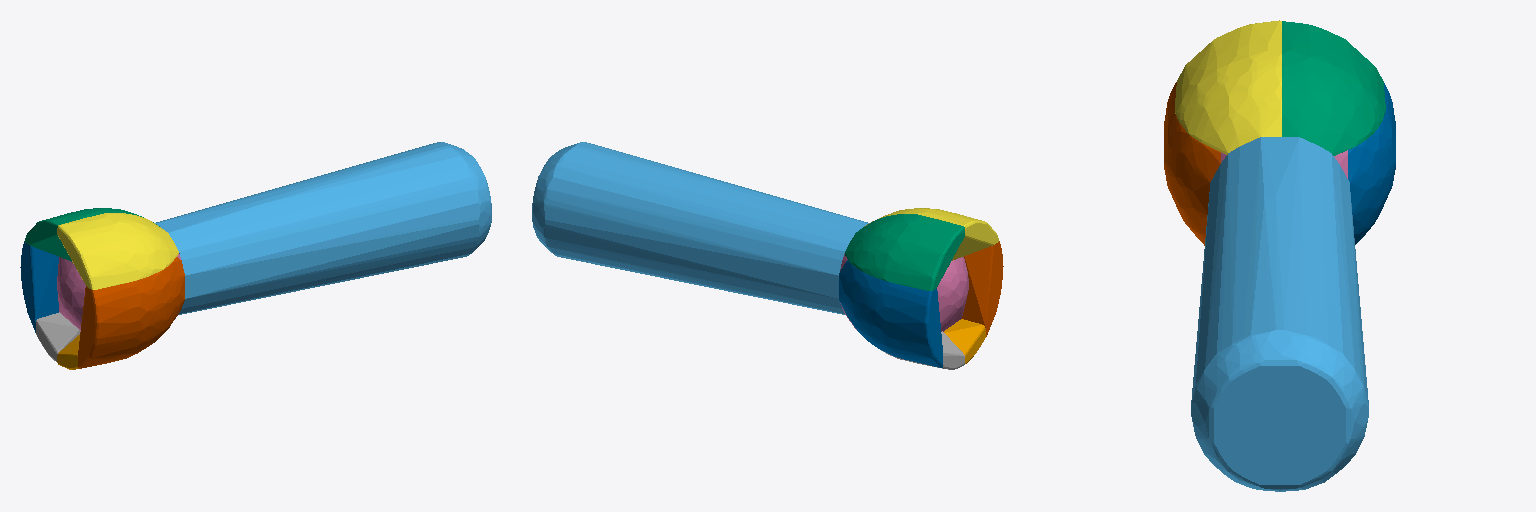
URDF robot description (sem-Flashlight-5c7bf45b0f847489181be2d6e974dccd):
<?xml version="1.0"?>
<robot name="sem-Flashlight-5c7bf45b0f847489181be2d6e974dccd">
  <link name="object_root"/>
  <link name="convex_piece_000">
    <visual><geometry><mesh filename="pieces/piece_000.obj"/></geometry></visual>
    <collision><geometry><mesh filename="pieces/piece_000.obj"/></geometry></collision>
  </link>
  <joint name="piece_joint_000" type="fixed">
    <parent link="object_root"/>
    <child link="convex_piece_000"/>
    <origin xyz="0 0 0" rpy="0 0 0"/>
  </joint>
  <link name="convex_piece_001">
    <visual><geometry><mesh filename="pieces/piece_001.obj"/></geometry></visual>
    <collision><geometry><mesh filename="pieces/piece_001.obj"/></geometry></collision>
  </link>
  <joint name="piece_joint_001" type="fixed">
    <parent link="object_root"/>
    <child link="convex_piece_001"/>
    <origin xyz="0 0 0" rpy="0 0 0"/>
  </joint>
  <link name="convex_piece_002">
    <visual><geometry><mesh filename="pieces/piece_002.obj"/></geometry></visual>
    <collision><geometry><mesh filename="pieces/piece_002.obj"/></geometry></collision>
  </link>
  <joint name="piece_joint_002" type="fixed">
    <parent link="object_root"/>
    <child link="convex_piece_002"/>
    <origin xyz="0 0 0" rpy="0 0 0"/>
  </joint>
  <link name="convex_piece_003">
    <visual><geometry><mesh filename="pieces/piece_003.obj"/></geometry></visual>
    <collision><geometry><mesh filename="pieces/piece_003.obj"/></geometry></collision>
  </link>
  <joint name="piece_joint_003" type="fixed">
    <parent link="object_root"/>
    <child link="convex_piece_003"/>
    <origin xyz="0 0 0" rpy="0 0 0"/>
  </joint>
  <link name="convex_piece_004">
    <visual><geometry><mesh filename="pieces/piece_004.obj"/></geometry></visual>
    <collision><geometry><mesh filename="pieces/piece_004.obj"/></geometry></collision>
  </link>
  <joint name="piece_joint_004" type="fixed">
    <parent link="object_root"/>
    <child link="convex_piece_004"/>
    <origin xyz="0 0 0" rpy="0 0 0"/>
  </joint>
  <link name="convex_piece_005">
    <visual><geometry><mesh filename="pieces/piece_005.obj"/></geometry></visual>
    <collision><geometry><mesh filename="pieces/piece_005.obj"/></geometry></collision>
  </link>
  <joint name="piece_joint_005" type="fixed">
    <parent link="object_root"/>
    <child link="convex_piece_005"/>
    <origin xyz="0 0 0" rpy="0 0 0"/>
  </joint>
  <link name="convex_piece_006">
    <visual><geometry><mesh filename="pieces/piece_006.obj"/></geometry></visual>
    <collision><geometry><mesh filename="pieces/piece_006.obj"/></geometry></collision>
  </link>
  <joint name="piece_joint_006" type="fixed">
    <parent link="object_root"/>
    <child link="convex_piece_006"/>
    <origin xyz="0 0 0" rpy="0 0 0"/>
  </joint>
  <link name="convex_piece_007">
    <visual><geometry><mesh filename="pieces/piece_007.obj"/></geometry></visual>
    <collision><geometry><mesh filename="pieces/piece_007.obj"/></geometry></collision>
  </link>
  <joint name="piece_joint_007" type="fixed">
    <parent link="object_root"/>
    <child link="convex_piece_007"/>
    <origin xyz="0 0 0" rpy="0 0 0"/>
  </joint>
</robot>

--- What the picture shows (computed from the rendered views, not written in the file) ---
3 views of the same robot in one strip: view 1: azimuth 30°, elevation 25°; view 2: azimuth 150°, elevation 25°; view 3: azimuth 270°, elevation 25° (orthographic).
Robot: sem-Flashlight-5c7bf45b0f847489181be2d6e974dccd — 9 links, 8 joints (8 fixed); root link object_root; default pose: all joints at 0.
Visible links, largest first — view 1: convex_piece_000, convex_piece_004, convex_piece_002, convex_piece_003, convex_piece_001, convex_piece_005, convex_piece_006; view 2: convex_piece_000, convex_piece_003, convex_piece_001, convex_piece_004, convex_piece_005, convex_piece_002, convex_piece_007, convex_piece_006; view 3: convex_piece_000, convex_piece_002, convex_piece_001, convex_piece_004, convex_piece_003.
Boxes of the visible links, x1,y1,x2,y2 form: convex_piece_000: (155,142,491,314); convex_piece_004: (78,257,184,368); convex_piece_002: (57,213,178,289); convex_piece_003: (20,242,58,332); convex_piece_001: (24,208,159,261); convex_piece_005: (57,254,180,330); convex_piece_006: (36,312,80,361); convex_piece_000: (532,142,868,314); convex_piece_003: (839,260,942,367); convex_piece_001: (845,214,964,290); convex_piece_004: (962,241,1003,336); convex_piece_005: (840,254,968,331); convex_piece_002: (864,208,998,260); convex_piece_007: (944,319,985,363); convex_piece_006: (881,331,964,369); convex_piece_000: (1191,137,1368,491); convex_piece_002: (1175,20,1281,154); convex_piece_001: (1282,21,1385,155); convex_piece_004: (1164,82,1220,245); convex_piece_003: (1348,83,1395,244).
Size in the robot's own frame: 0.1869 by 0.0609 by 0.0609 metres.
Meshes: 8 distinct files referenced, 8 mesh visuals loaded (8 OBJ).
